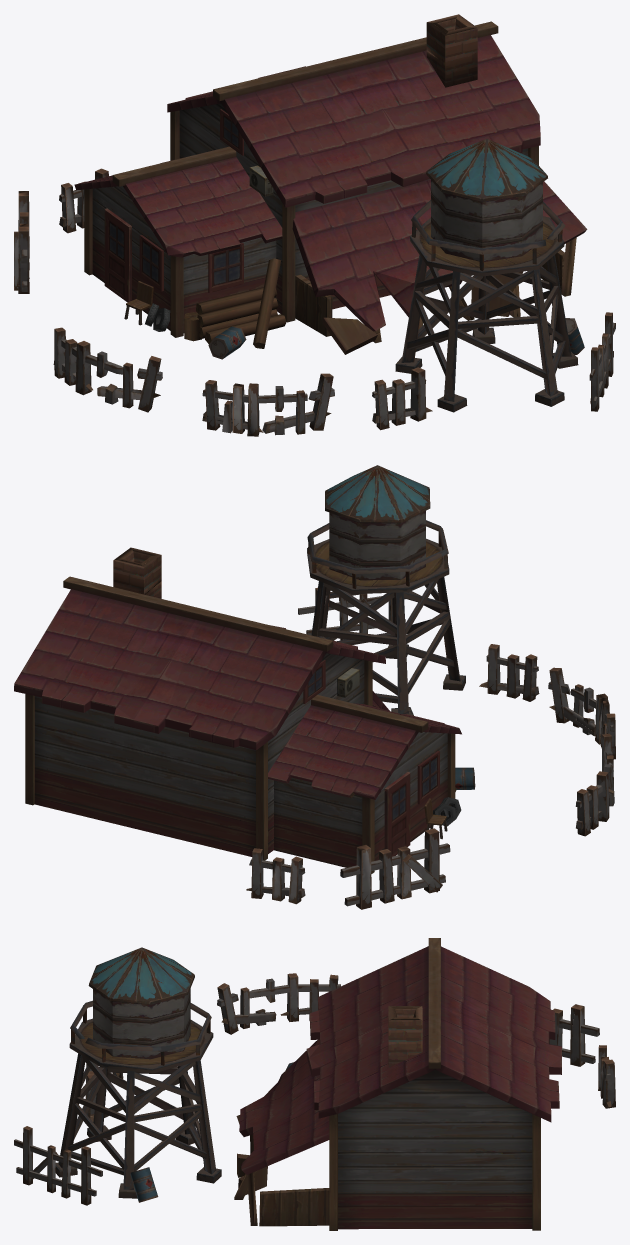
The model's file is WMCabin1.FBX.
3 views of the same model, one above another, from view 1: azimuth 30°, elevation 25°; view 2: azimuth 150°, elevation 25°; view 3: azimuth 270°, elevation 25° (orthographic). The views are drawn at different scales.
Visible parts, largest first — view 1: feiqiwuzi; view 2: feiqiwuzi; view 3: feiqiwuzi.
Boxes of the visible parts, x1=… form: feiqiwuzi: x1=14, y1=14, x2=615, y2=436; feiqiwuzi: x1=14, y1=465, x2=615, y2=909; feiqiwuzi: x1=14, y1=938, x2=615, y2=1230.
Size of the model in its own units: 1.19 by 0.5438 by 1.37.
1 material, 1 textured.
